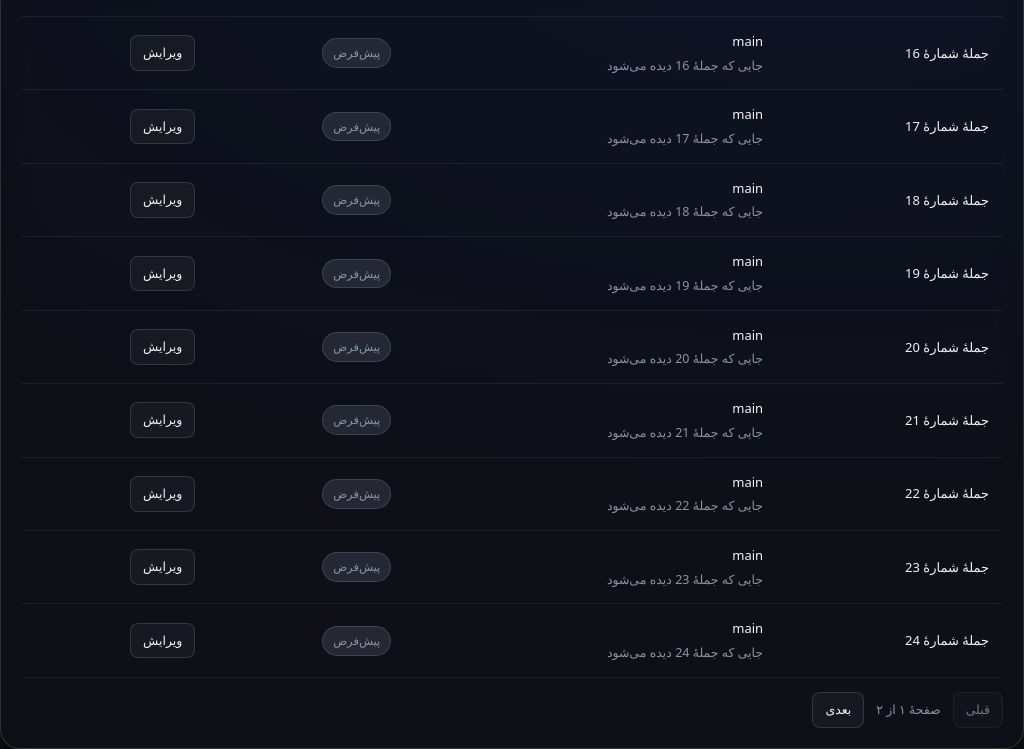
the bot texts screen › says which page it is on, and moves
This screenshot has width=1024, height=749.
(page scrolled)
Click the button "بعدی" at (838,710), box [812,692,864,728]
(page scrolled)
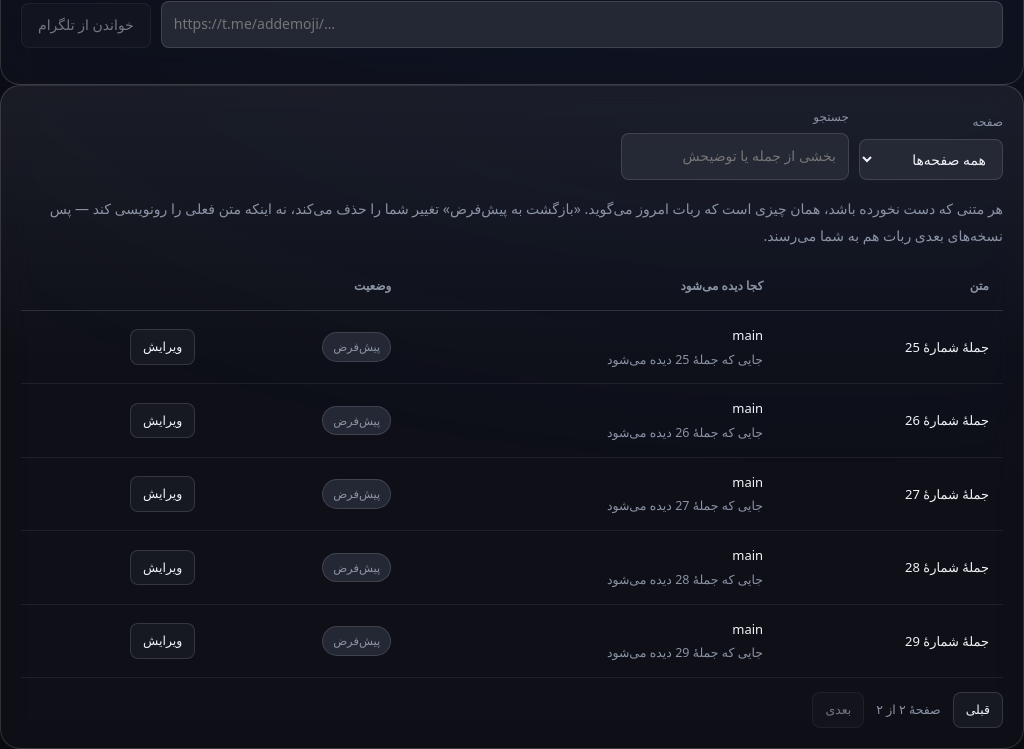
Now the text "جملهٔ شمارهٔ 25" is shown, box [905,338,989,356]
